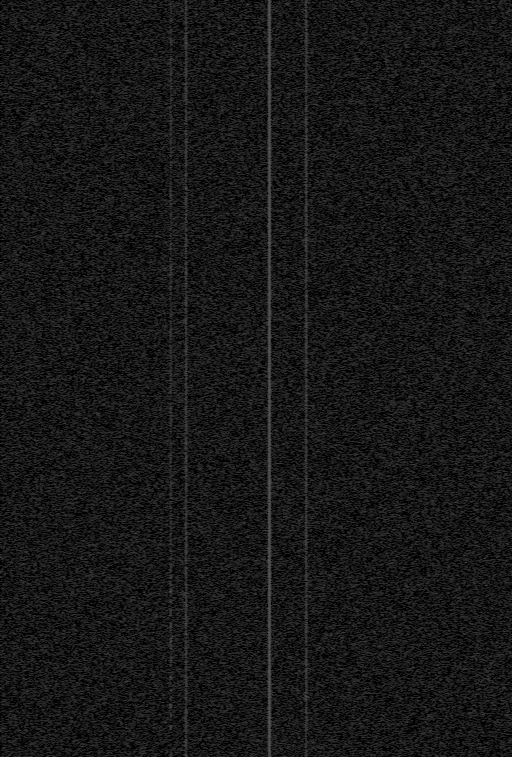wv_am: (304, 0, 309, 757), (184, 0, 189, 757), (168, 0, 173, 618), (168, 669, 173, 694), (168, 712, 173, 732), (168, 652, 173, 668), (168, 695, 173, 710), (168, 637, 173, 651), (168, 622, 173, 633), (168, 748, 173, 757)
wv_cw: (267, 0, 272, 757)
